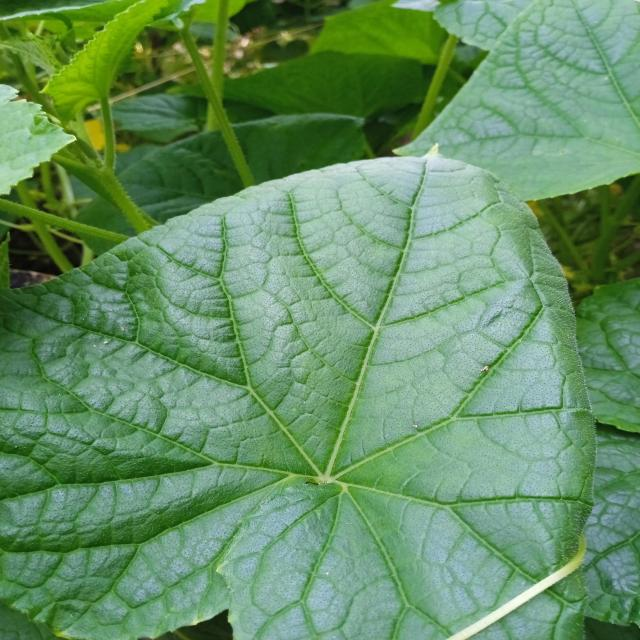cucumber_healthy: (4, 147, 599, 640), (386, 0, 640, 199)
